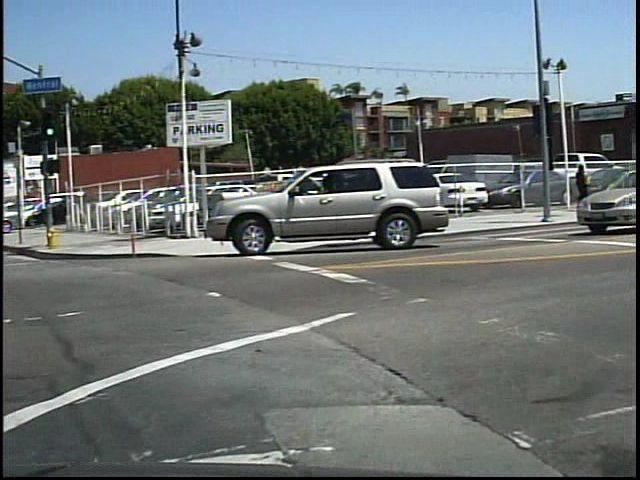person: (575, 163, 597, 215)
